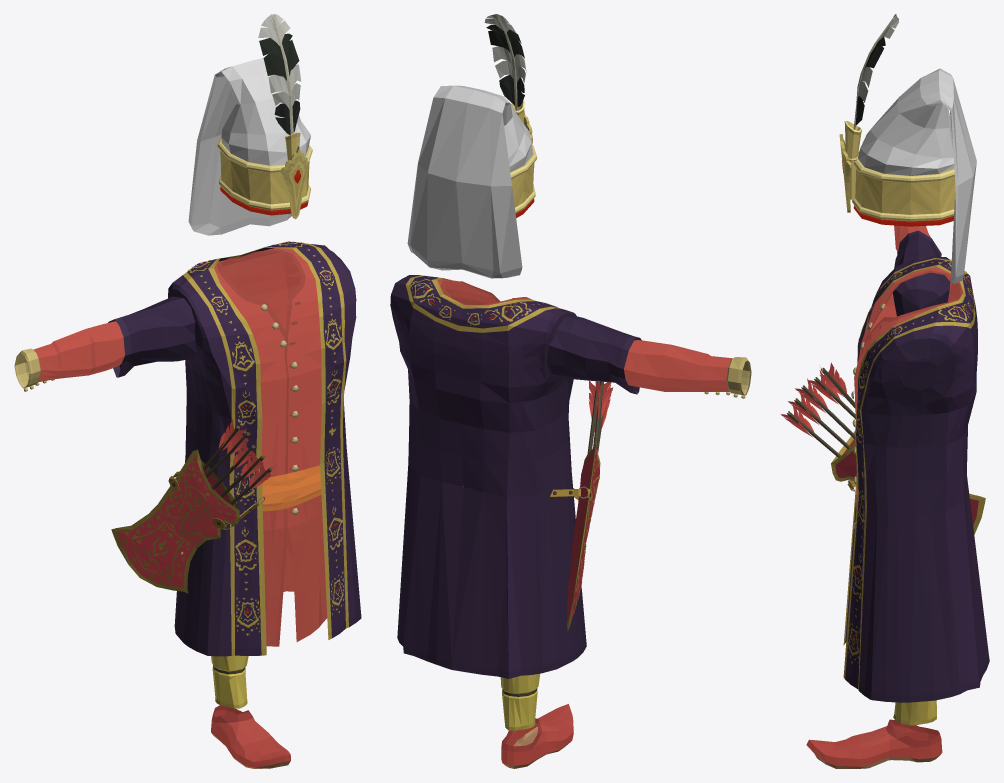
Rendered from ottomanJanissary.glb.
3 renders of one model, left to right at view 1: azimuth 30°, elevation 25°; view 2: azimuth 150°, elevation 25°; view 3: azimuth 270°, elevation 25°, orthographic. The views are drawn at different scales.
Parts seen in each view (by area): view 1: ottomanJanissaryBody, ottomanJanissaryHat, ottomanJanissaryQuiver, ottomanJanissaryLowerArm, ottomanJanissaryUpperArm, ottomanJanissaryShoes, ottomanJanissaryLowerLeg; view 2: ottomanJanissaryBody, ottomanJanissaryHat, ottomanJanissaryLowerArm, ottomanJanissaryUpperArm, ottomanJanissaryQuiver, ottomanJanissaryShoes, ottomanJanissaryLowerLeg; view 3: ottomanJanissaryBody, ottomanJanissaryHat, ottomanJanissaryShoes, ottomanJanissaryQuiver, ottomanJanissaryUpperArm, ottomanJanissaryLowerLeg, ottomanJanissaryLowerArm.
Part boxes in pixels (x1,y1,x2,y2): ottomanJanissaryBody: [168, 241, 361, 656]; ottomanJanissaryHat: [188, 14, 312, 235]; ottomanJanissaryQuiver: [111, 419, 276, 593]; ottomanJanissaryLowerArm: [14, 321, 124, 391]; ottomanJanissaryUpperArm: [108, 296, 196, 377]; ottomanJanissaryShoes: [211, 705, 290, 768]; ottomanJanissaryLowerLeg: [211, 655, 248, 708]; ottomanJanissaryBody: [390, 275, 586, 678]; ottomanJanissaryHat: [407, 14, 537, 278]; ottomanJanissaryLowerArm: [624, 340, 751, 398]; ottomanJanissaryUpperArm: [547, 315, 641, 394]; ottomanJanissaryQuiver: [550, 380, 613, 630]; ottomanJanissaryShoes: [501, 704, 573, 768]; ottomanJanissaryLowerLeg: [500, 673, 539, 730]; ottomanJanissaryBody: [843, 257, 989, 702]; ottomanJanissaryHat: [839, 14, 976, 283]; ottomanJanissaryShoes: [806, 719, 942, 768]; ottomanJanissaryQuiver: [780, 362, 985, 534]; ottomanJanissaryUpperArm: [893, 230, 950, 316]; ottomanJanissaryLowerLeg: [893, 700, 936, 725]; ottomanJanissaryLowerArm: [894, 225, 930, 254].
Size of the model in its own units: 1.17 by 2.45 by 0.6108.
